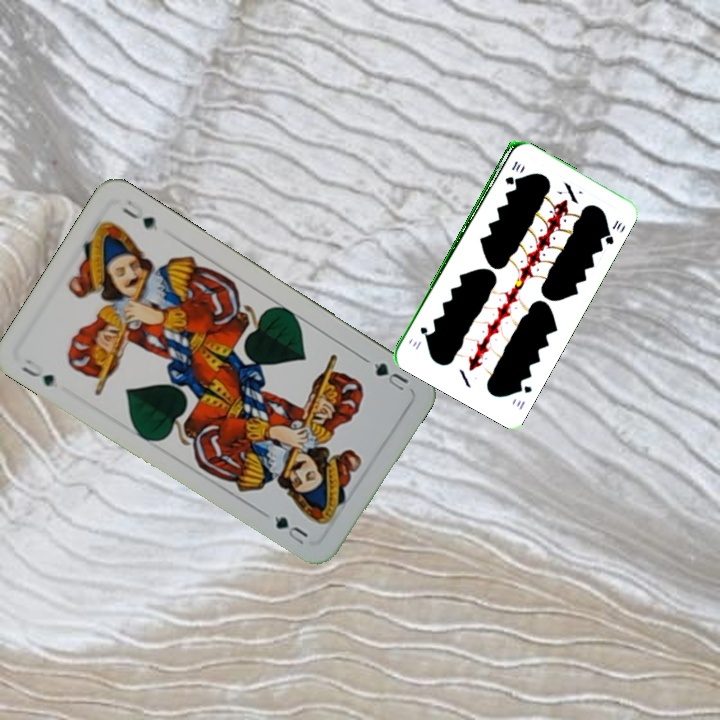G10: (512, 379, 534, 412), (501, 157, 523, 187)
GU: (360, 354, 411, 395), (16, 355, 57, 390)
